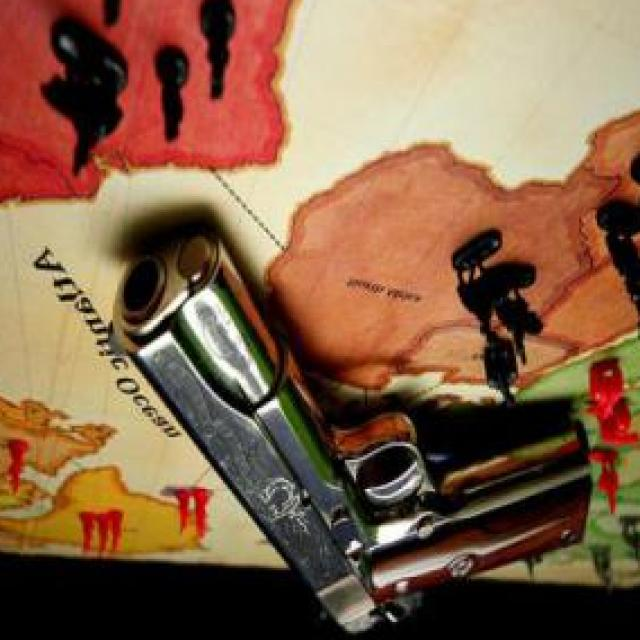pistol: (113, 223, 592, 636)
